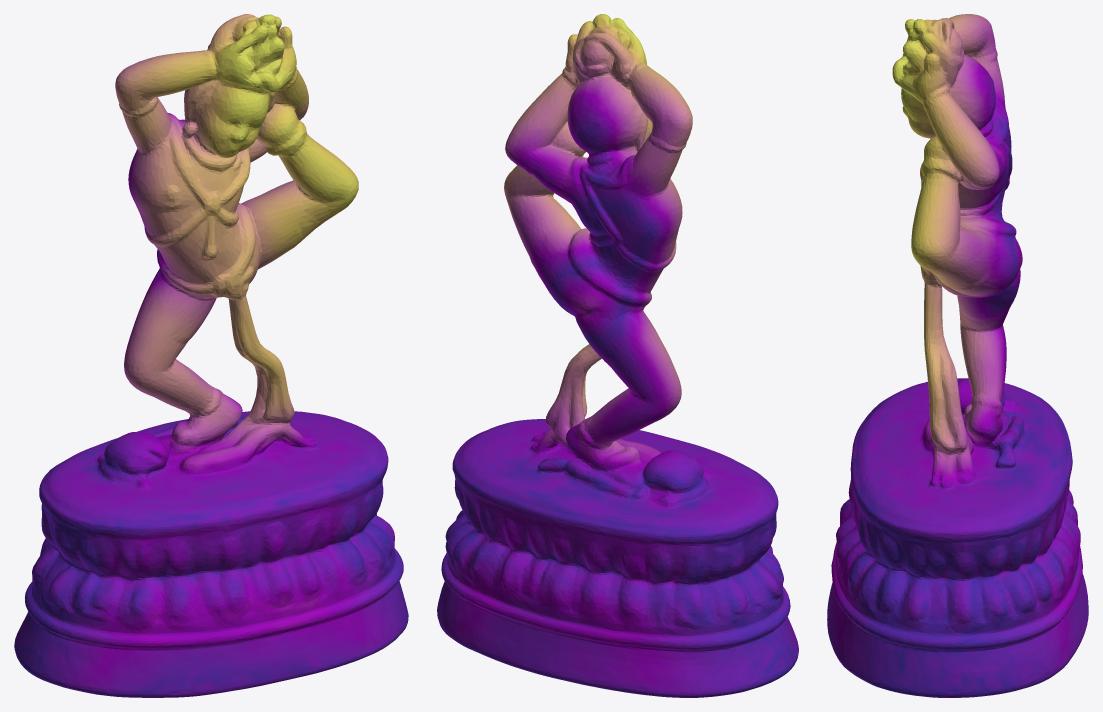
Rendered from iter_1.glb.
The picture shows the model from 3 angles, left to right: view 1: azimuth 30°, elevation 25°; view 2: azimuth 150°, elevation 25°; view 3: azimuth 270°, elevation 25°; orthographic projection. The views are drawn at different scales.
Parts seen in each view (by area): view 1: textured_mesh; view 2: textured_mesh; view 3: textured_mesh.
Part boxes in pixels (bbox=[...]): textured_mesh: bbox=[14, 14, 408, 697]; textured_mesh: bbox=[437, 14, 798, 697]; textured_mesh: bbox=[827, 14, 1088, 697].
Size of the model in its own units: 1.18 by 1.99 by 0.7696.
